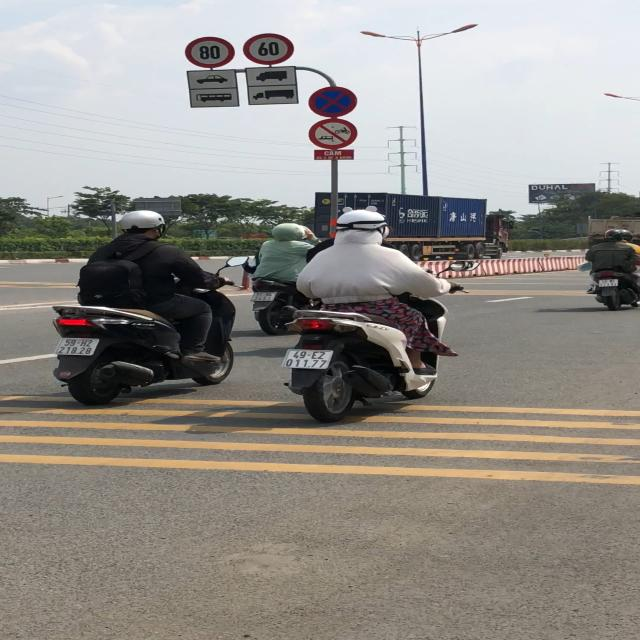Bien bao cam dung xe va do xe: (307, 82, 361, 119)
Bien bao toc do toi da cho phep: (184, 35, 239, 70), (242, 32, 296, 66)
